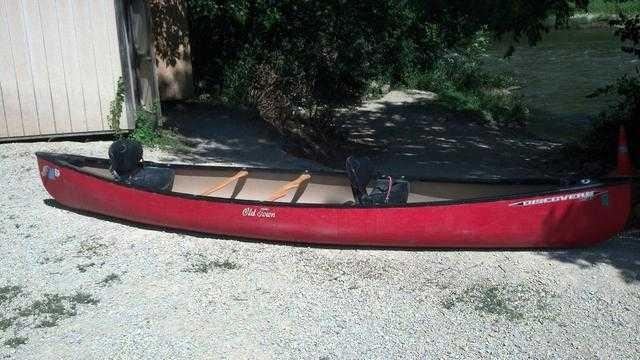kayak: (32, 140, 639, 251)
